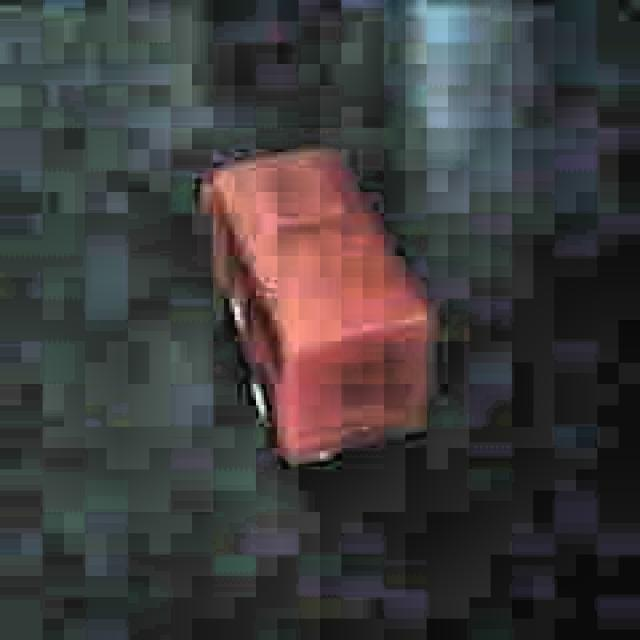bus: (198, 140, 435, 480)
